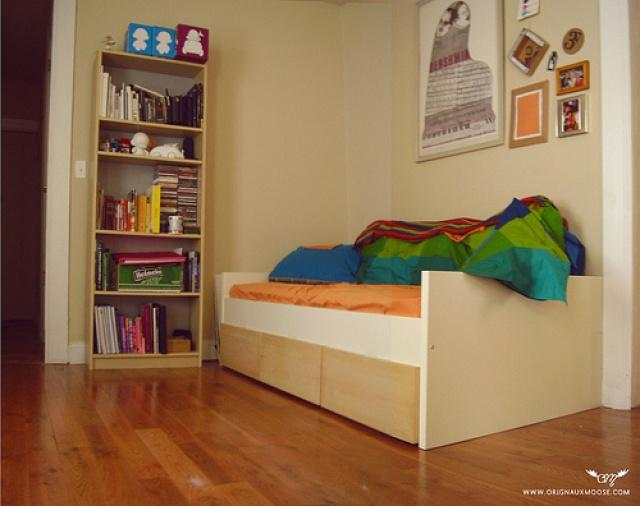Rak: (89, 46, 208, 371)
